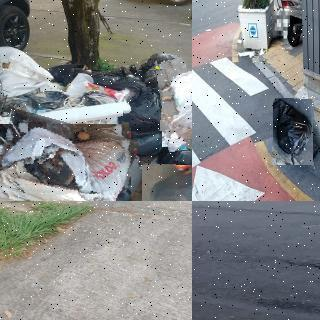Garbage: (0, 116, 135, 201), (159, 60, 192, 150), (272, 99, 314, 165), (123, 85, 183, 131), (135, 51, 188, 89)
